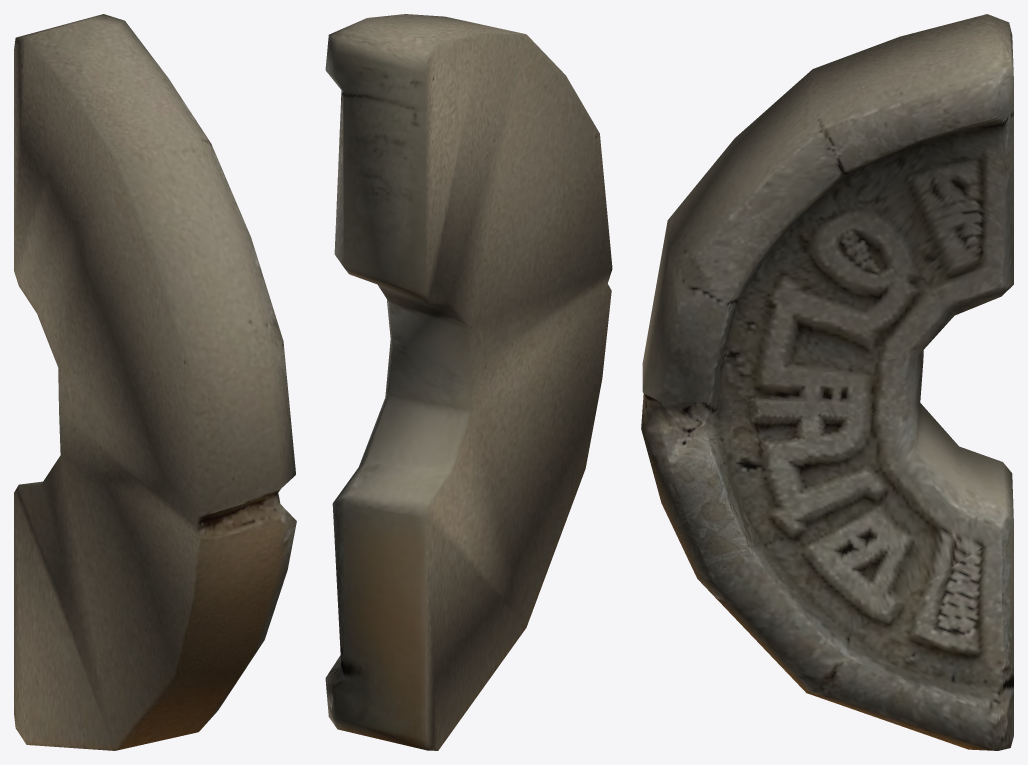
The model's file is moonstone_left.glb.
3 views of the same model, side by side, from view 1: azimuth 30°, elevation 25°; view 2: azimuth 150°, elevation 25°; view 3: azimuth 270°, elevation 25° (orthographic).
Parts seen in each view (by area): view 1: moonstone_left; view 2: moonstone_left; view 3: moonstone_left.
Part boxes in pixels (x1,y1,x2,y2): moonstone_left: (14, 14, 296, 750); moonstone_left: (325, 14, 612, 750); moonstone_left: (641, 14, 1013, 750).
Bounding box in the file's own units: 0.1543 × 0.9688 × 0.4668.
Materials: 1 (1 with a texture image).
